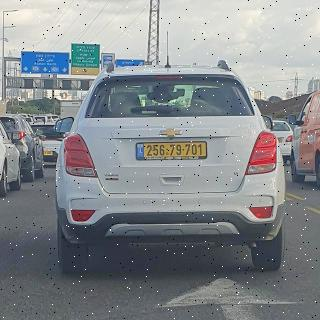LicensePlate: (144, 143, 205, 157)
